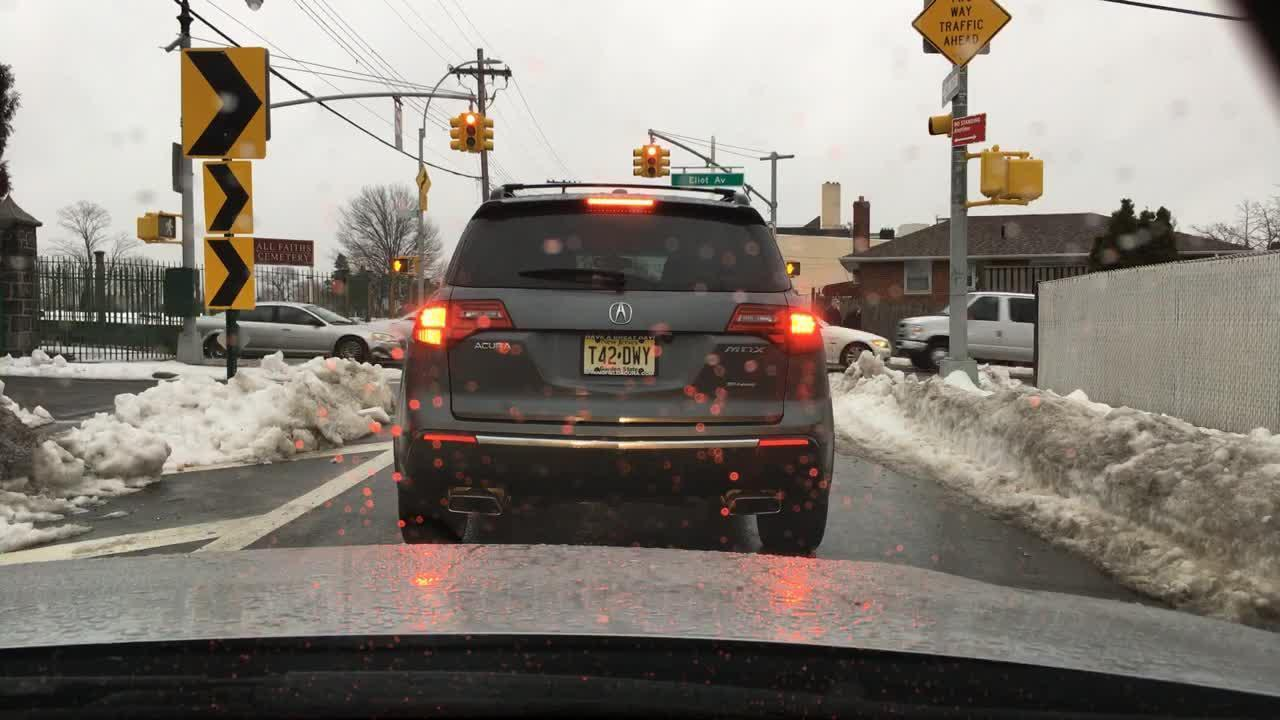acura: (604, 297, 637, 327)
